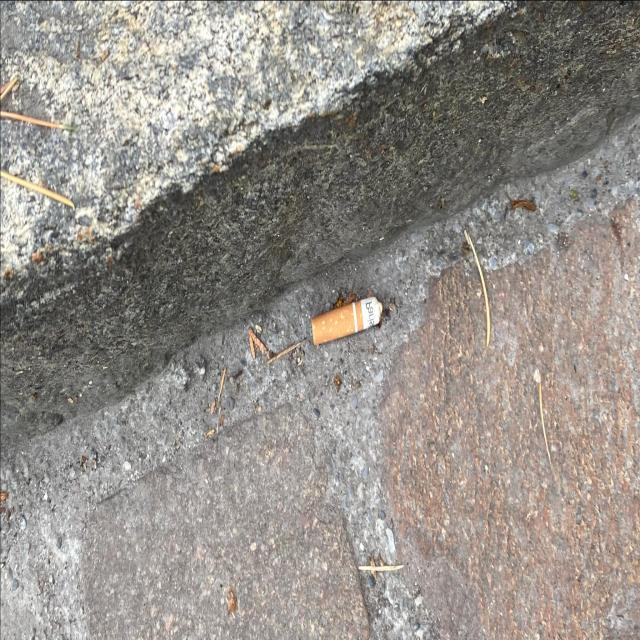other waste: (310, 296, 382, 346)
